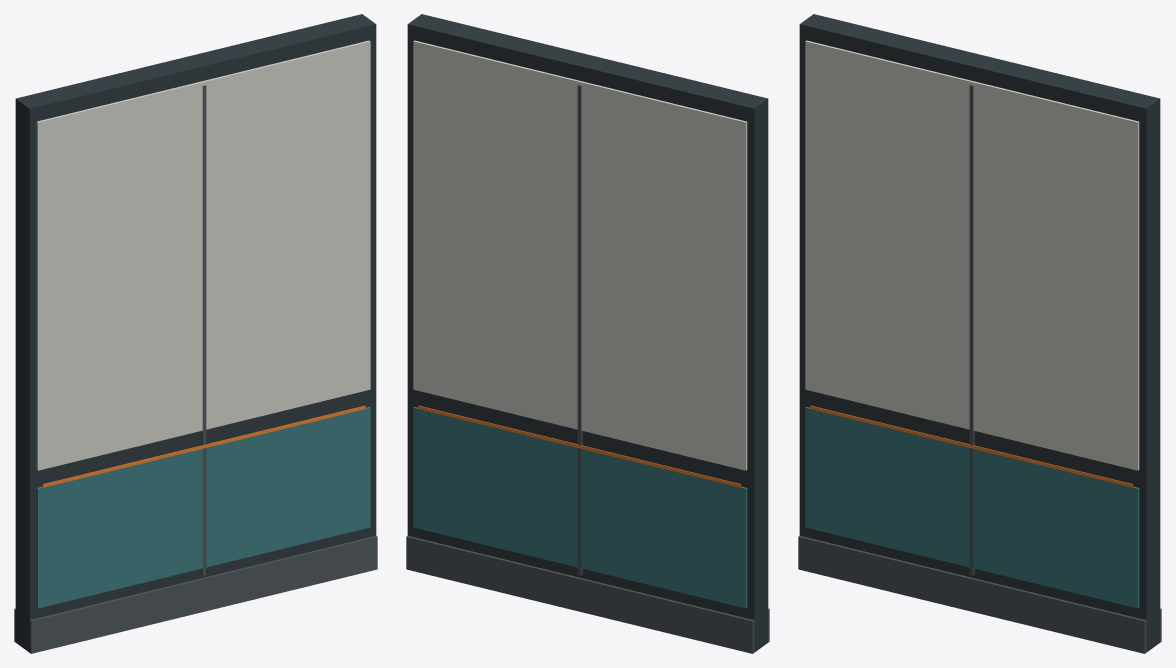
The model's file is wall-panel-lod0.glb.
3 renders of one model, left to right at view 1: azimuth 30°, elevation 25°; view 2: azimuth 150°, elevation 25°; view 3: azimuth 330°, elevation 25°, orthographic.
Visible parts, largest first — view 1: static; view 2: static; view 3: static.
Part boxes in pixels (bbox=[...]): static: bbox=[14, 14, 377, 653]; static: bbox=[406, 14, 769, 653]; static: bbox=[798, 14, 1161, 653].
Size of the model in its own units: 2 by 3 by 0.172.
